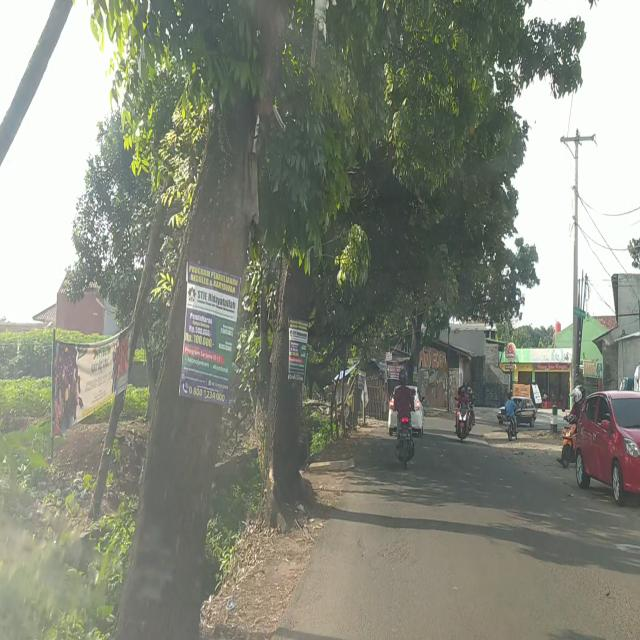Drain Hole: (374, 502, 417, 568)
